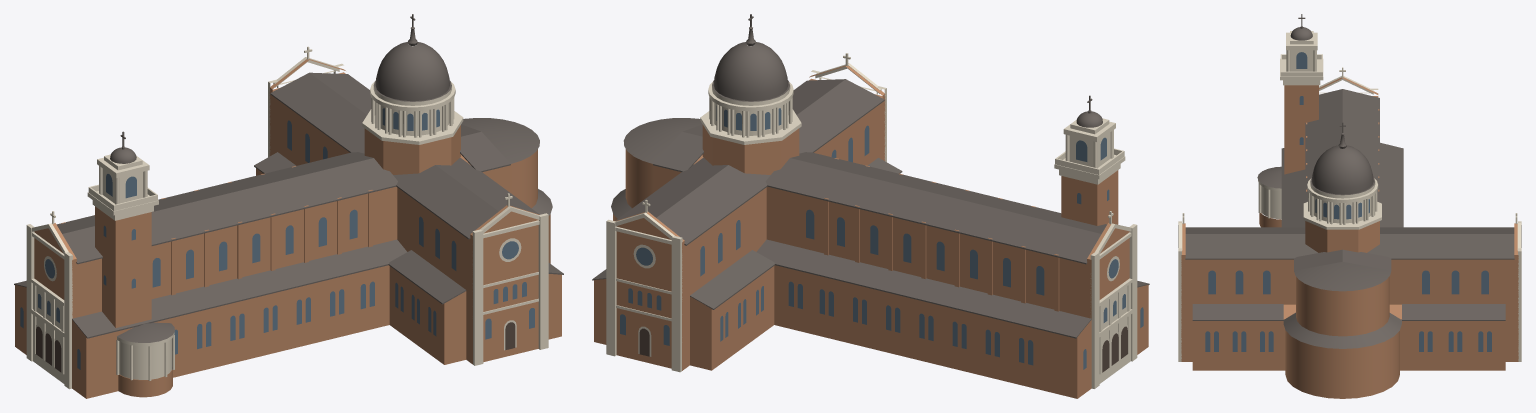
File: ral-holy-name-of-jesus-cathedral.glb
3 renders of one model, left to right at view 1: azimuth 30°, elevation 25°; view 2: azimuth 150°, elevation 25°; view 3: azimuth 270°, elevation 25°, orthographic. The views are drawn at different scales.
Parts seen in each view (by area): view 1: Holy Name of Jesus Cathedral; view 2: Holy Name of Jesus Cathedral; view 3: Holy Name of Jesus Cathedral.
Boxes of the visible parts, x1,y1,x2,y2 form: Holy Name of Jesus Cathedral: [14, 14, 563, 398]; Holy Name of Jesus Cathedral: [592, 14, 1149, 398]; Holy Name of Jesus Cathedral: [1178, 14, 1521, 398].
Size of the model in its own units: 104 by 54.4 by 75.4.
